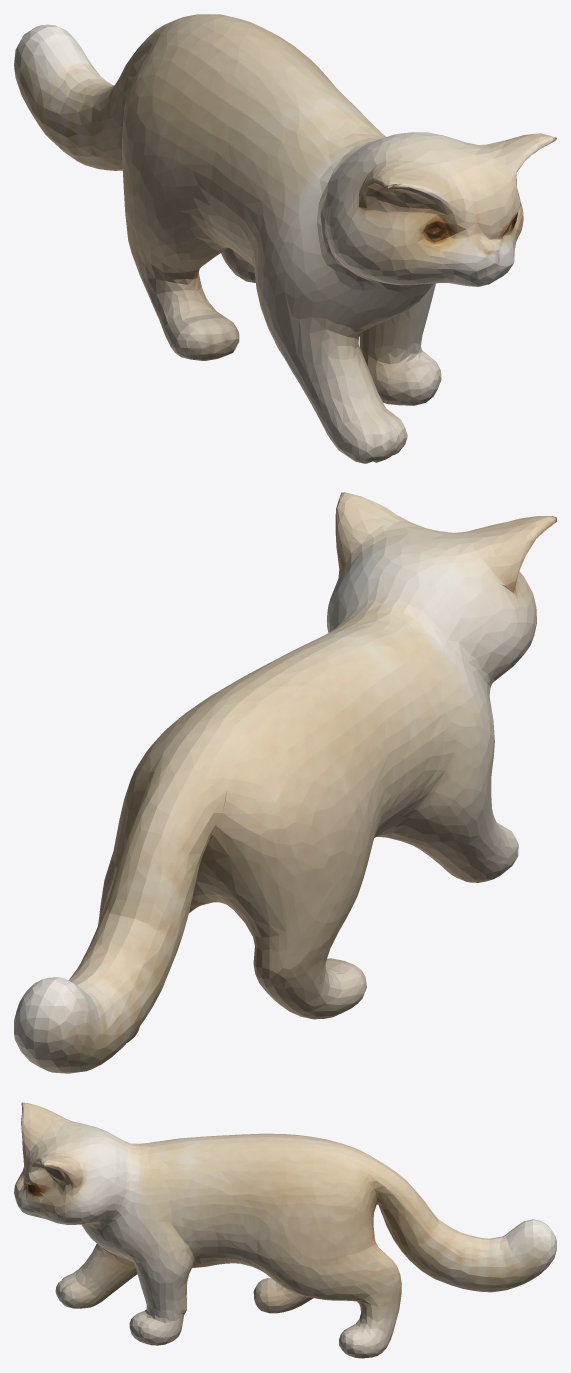
The picture shows the model from 3 angles, top to bottom: view 1: azimuth 30°, elevation 25°; view 2: azimuth 150°, elevation 25°; view 3: azimuth 270°, elevation 25°; orthographic projection. The views are drawn at different scales.
Parts seen in each view (by area): view 1: geometry_0; view 2: geometry_0; view 3: geometry_0.
Part boxes in pixels (x1,y1,x2,y2): geometry_0: (14,14,556,463); geometry_0: (14,492,556,1073); geometry_0: (14,1102,556,1358).
Bounding box in the file's own units: 0.2801 × 0.4203 × 0.9964.
1 material, 1 textured.
